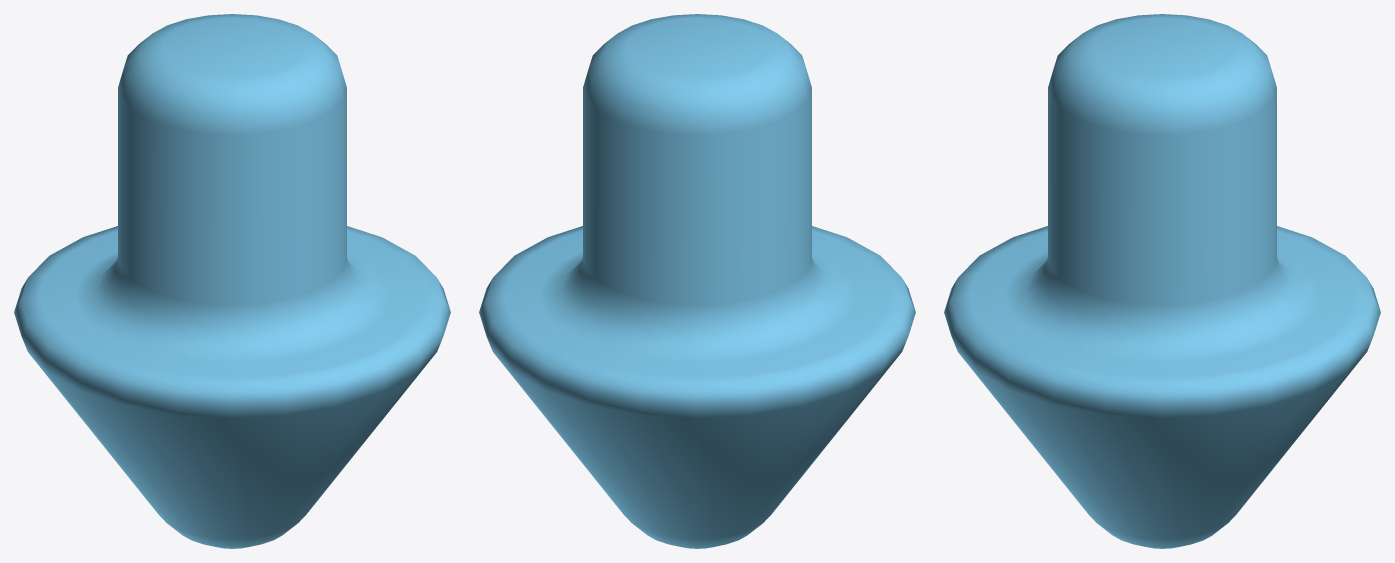
Rendered from Arrow.fbx.
The picture shows the model from 3 angles, left to right: view 1: azimuth 30°, elevation 25°; view 2: azimuth 150°, elevation 25°; view 3: azimuth 270°, elevation 25°; orthographic projection.
Parts seen in each view (by area): view 1: Arrow_01a; view 2: Arrow_01a; view 3: Arrow_01a.
Boxes of the visible parts, left/top/right/bottom form: Arrow_01a: left=14, top=14, right=450, bottom=548; Arrow_01a: left=479, top=14, right=915, bottom=548; Arrow_01a: left=944, top=14, right=1380, bottom=548.
Size of the model in its own units: 63.66 by 79.06 by 63.66.
